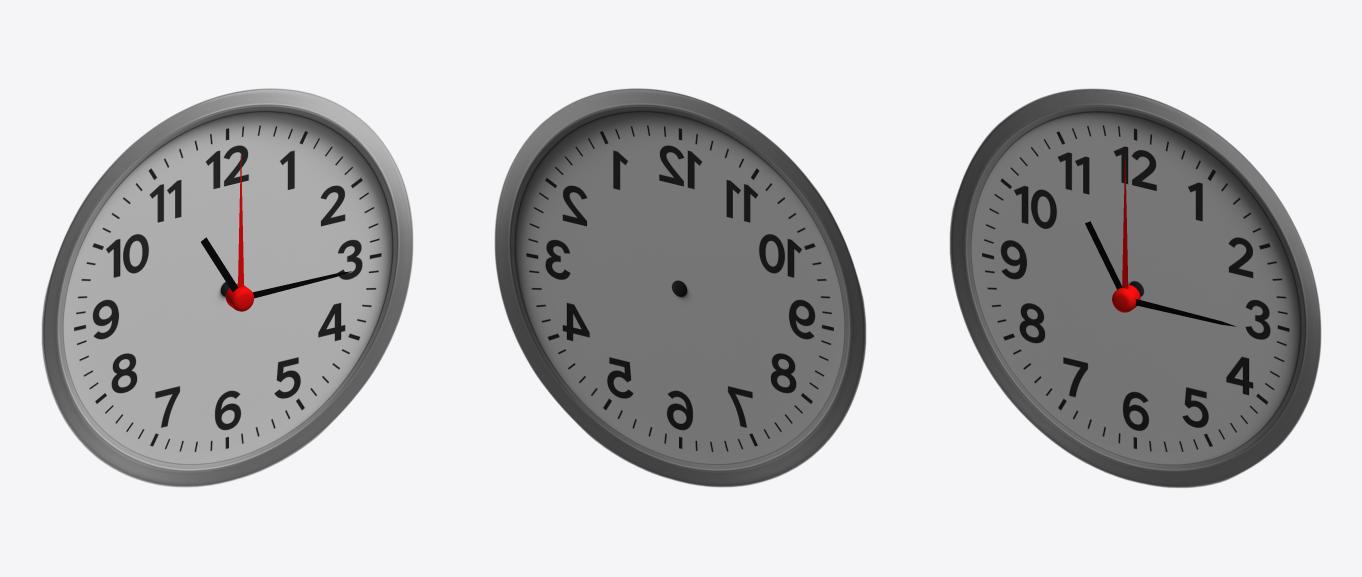
The model's file is 2D貼圖_3D清晰可見的時鐘面板_簡潔的指針V1.glb.
3 renders of one model, left to right at view 1: azimuth 30°, elevation 25°; view 2: azimuth 150°, elevation 25°; view 3: azimuth 330°, elevation 25°, orthographic.
Parts seen in each view (by area): view 1: 復古風格的時鐘_貼圖版, 圆柱体, second; view 2: 復古風格的時鐘_貼圖版; view 3: 復古風格的時鐘_貼圖版, 圆柱体, second, minute.
Boxes of the visible parts, left/top/right/bottom form: 復古風格的時鐘_貼圖版: left=42, top=88, right=413, bottom=487; 圆柱体: left=225, top=283, right=254, bottom=311; second: left=238, top=154, right=243, bottom=287; 復古風格的時鐘_貼圖版: left=494, top=88, right=865, bottom=487; 復古風格的時鐘_貼圖版: left=950, top=88, right=1321, bottom=487; 圆柱体: left=1112, top=284, right=1140, bottom=312; second: left=1122, top=151, right=1128, bottom=288; minute: left=1135, top=299, right=1235, bottom=326.
Size of the model in its own units: 1024 by 1024 by 67.83.
Materials: 3 (1 with a texture image).
